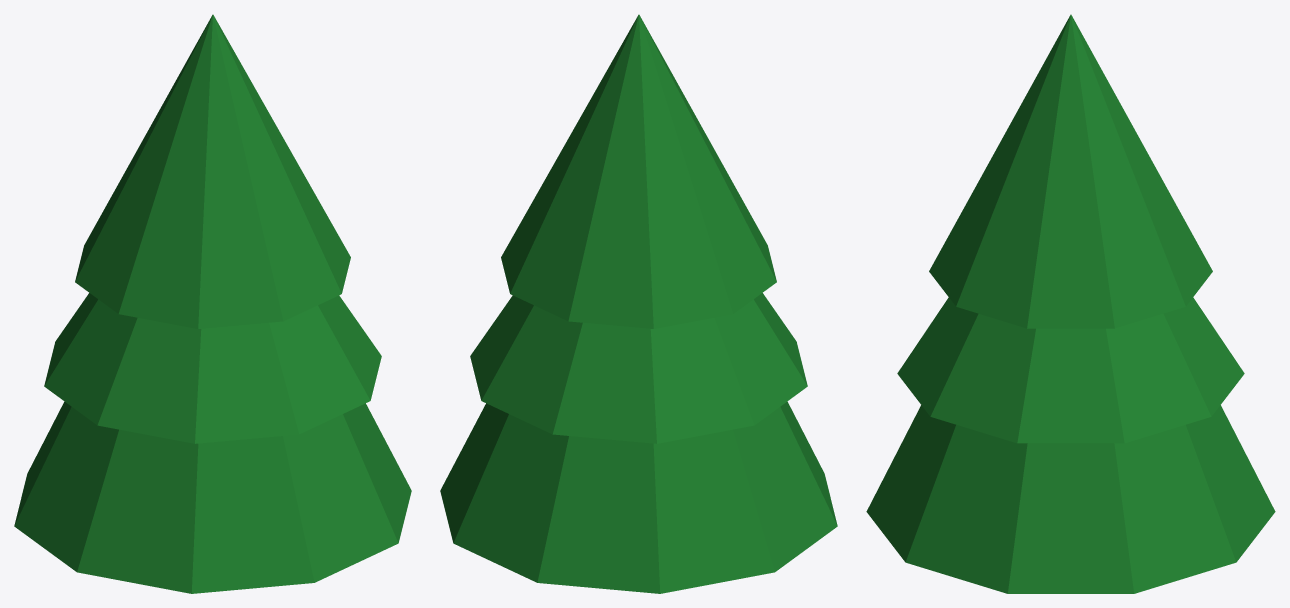
The model's file is Tree.fbx.
3 renders of one model, left to right at view 1: azimuth 30°, elevation 25°; view 2: azimuth 150°, elevation 25°; view 3: azimuth 270°, elevation 25°, orthographic.
Visible parts, largest first — view 1: Cone; view 2: Cone; view 3: Cone.
Part boxes in pixels (box(x1,y1,x2,y2)): Cone: box(14, 14, 411, 593); Cone: box(440, 14, 837, 593); Cone: box(866, 14, 1275, 593).
Bounding box in the file's own units: 2.74 × 2.88 × 4.27.
